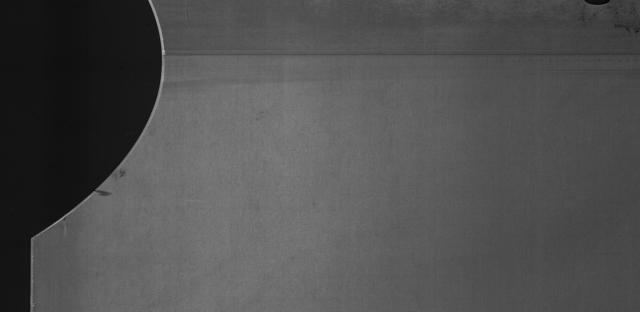crescent_gap: (19, 0, 174, 250)
welding_line: (143, 41, 640, 72)
